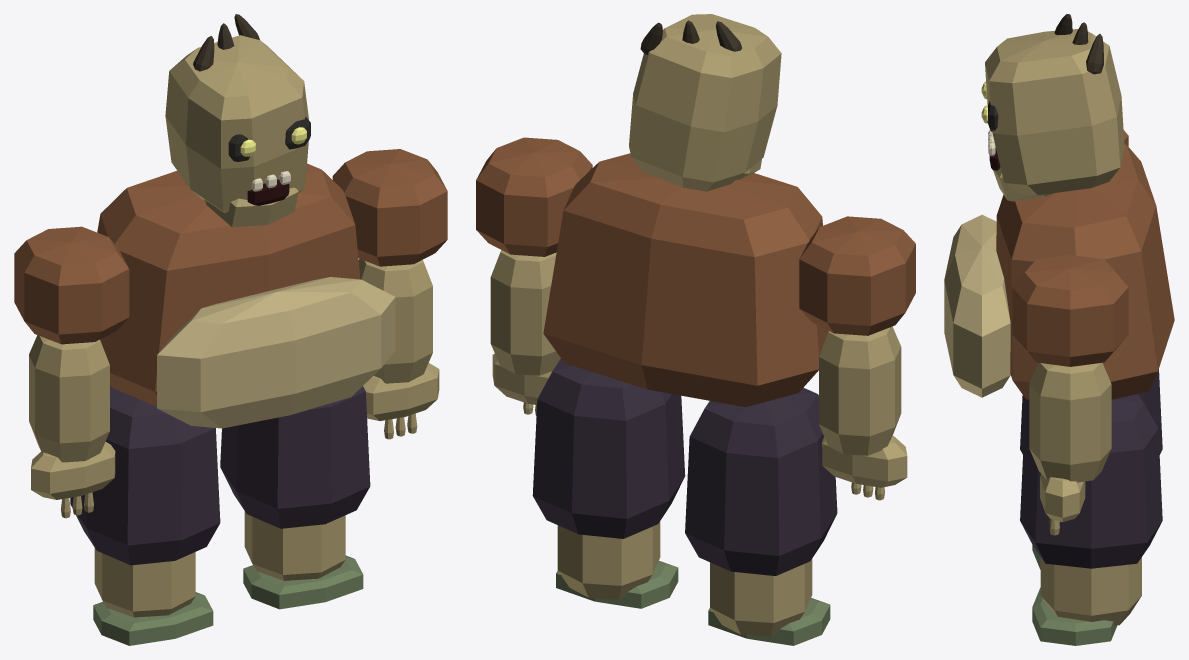
Rendered from mon-bloater-2.glb.
The picture shows the model from 3 angles, left to right: view 1: azimuth 30°, elevation 25°; view 2: azimuth 150°, elevation 25°; view 3: azimuth 270°, elevation 25°; orthographic projection. The views are drawn at different scales.
Parts seen in each view (by area): view 1: torso, leg-right, arm-right, leg-left, head, arm-left; view 2: torso, leg-right, leg-left, arm-right, head, arm-left; view 3: torso, arm-left, leg-left, head, leg-right.
Boxes of the visible parts, x1=… form: torso: x1=97, y1=163, x2=395, y2=428; leg-right: x1=70, y1=385, x2=220, y2=645; arm-right: x1=14, y1=226, x2=129, y2=518; leg-left: x1=220, y1=386, x2=370, y2=609; head: x1=165, y1=14, x2=310, y2=227; arm-left: x1=332, y1=149, x2=447, y2=439; torso: x1=543, y1=153, x2=828, y2=407; leg-right: x1=685, y1=387, x2=837, y2=645; leg-left: x1=532, y1=358, x2=685, y2=608; arm-right: x1=799, y1=216, x2=915, y2=500; head: x1=629, y1=14, x2=781, y2=191; arm-left: x1=476, y1=137, x2=592, y2=416; torso: x1=944, y1=144, x2=1174, y2=399; arm-left: x1=1012, y1=255, x2=1128, y2=535; leg-left: x1=1020, y1=394, x2=1162, y2=645; head: x1=981, y1=14, x2=1124, y2=201; leg-right: x1=1020, y1=369, x2=1162, y2=569.
Size of the model in its own units: 1.78 by 2.4 by 0.8818.
